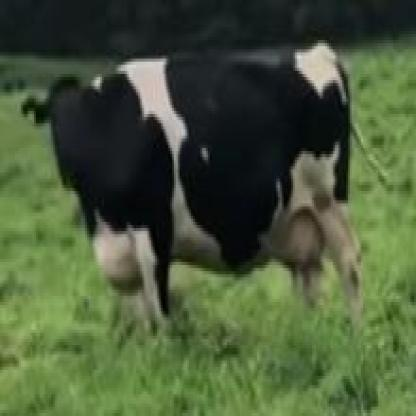cow: (21, 43, 355, 330)
